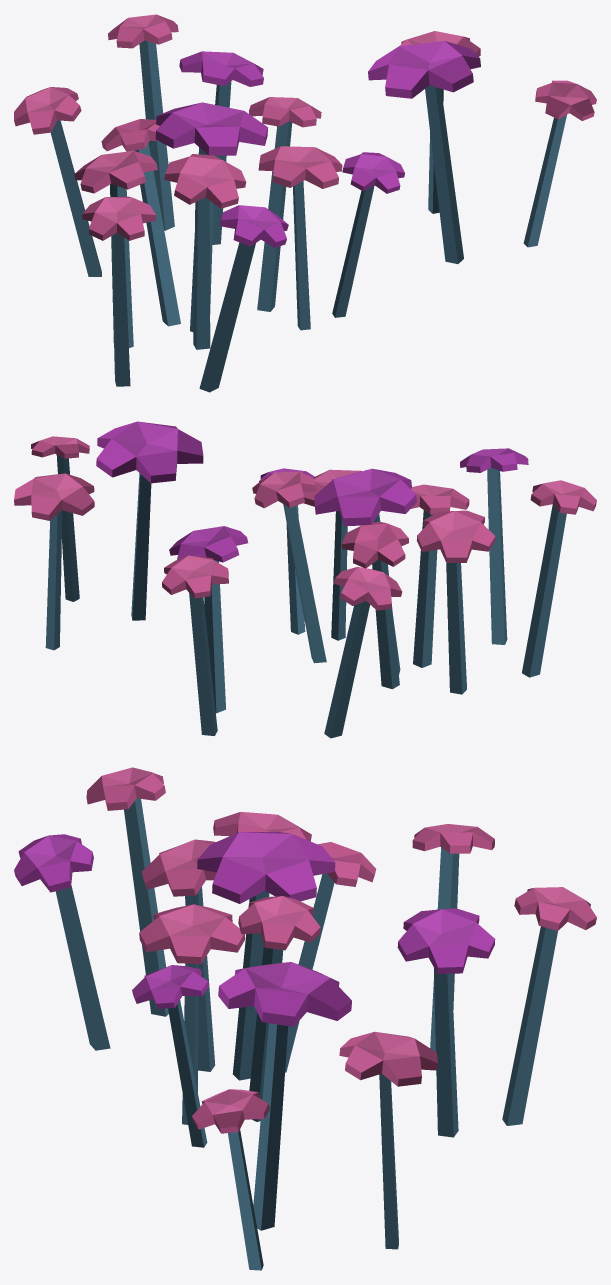
File: SM_Env_Flowers_01.fbx
3 views of the same model, one above another, from view 1: azimuth 30°, elevation 25°; view 2: azimuth 150°, elevation 25°; view 3: azimuth 270°, elevation 25° (orthographic). The views are drawn at different scales.
Visible parts, largest first — view 1: SM_Env_Flowers_01; view 2: SM_Env_Flowers_01; view 3: SM_Env_Flowers_01.
Boxes of the visible parts, box(x1,y1,x2,y2) form: SM_Env_Flowers_01: box(14, 14, 596, 392); SM_Env_Flowers_01: box(14, 421, 596, 738); SM_Env_Flowers_01: box(14, 767, 596, 1270).
Bounding box in the file's own units: 1.44 × 0.5127 × 1.13.
Materials: 1 (1 with a texture image).
